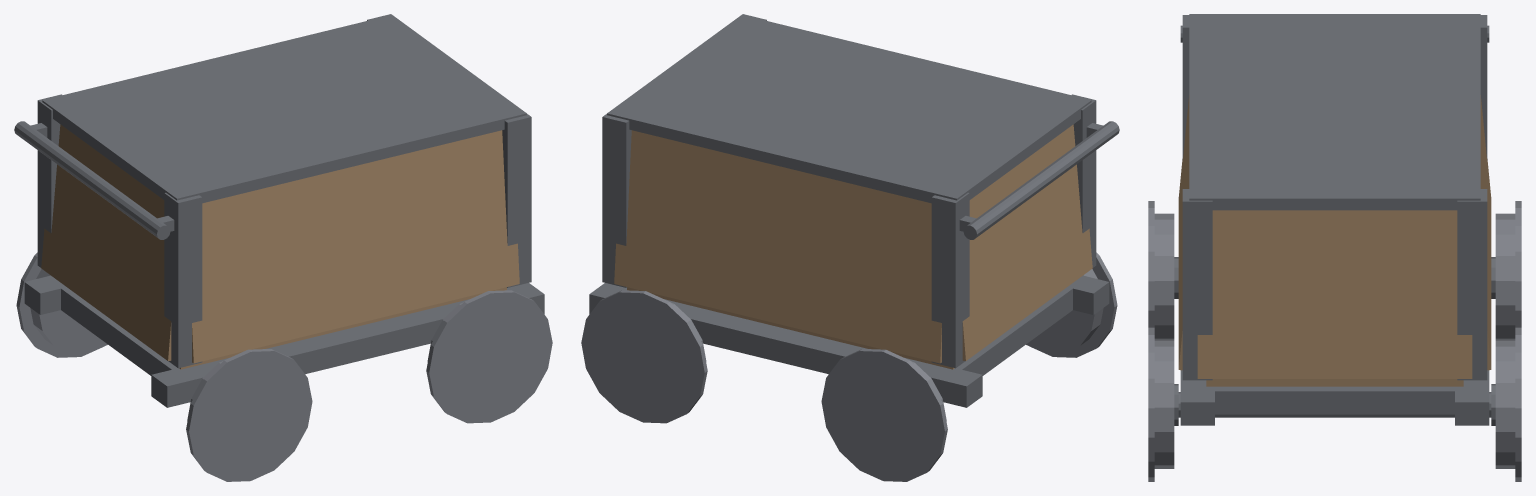
The model's file is mine_cart.glb.
3 renders of one model, left to right at view 1: azimuth 30°, elevation 25°; view 2: azimuth 150°, elevation 25°; view 3: azimuth 270°, elevation 25°, orthographic. The views are drawn at different scales.
Visible parts, largest first — view 1: Cube.014, Cube.006, Cube.008, Cylinder.009, Cylinder.002, Cube, Cube.010, Cube.012, Cube.002, Cylinder.014, Cube.011, Cylinder.004 (+3 smaller); view 2: Cube.014, Cube.007, Cube.008, Cylinder.012, Cylinder.005, Cube.001, Cube.011, Cube.013, Cube.002, Cylinder.014, Cube.010, Cylinder.001 (+3 smaller); view 3: Cube.014, Cube.009, Cube.004, Cube.012, Cube.013, Cylinder.008, Cylinder.011, Cylinder.001, Cylinder.004, Cube.005, Cube.001, Cube (+9 smaller).
Part boxes in pixels (bbox=[...]): Cube.014: bbox=[42, 15, 526, 203]; Cube.006: bbox=[192, 130, 519, 363]; Cube.008: bbox=[41, 124, 171, 360]; Cylinder.009: bbox=[426, 290, 552, 423]; Cylinder.002: bbox=[186, 349, 312, 481]; Cube: bbox=[151, 283, 544, 407]; Cube.010: bbox=[164, 192, 202, 368]; Cube.012: bbox=[502, 114, 531, 287]; Cube.002: bbox=[53, 281, 206, 375]; Cylinder.014: bbox=[14, 121, 170, 239]; Cube.011: bbox=[37, 94, 62, 267]; Cylinder.004: bbox=[30, 269, 107, 353]; Cube.014: bbox=[607, 15, 1091, 203]; Cube.007: bbox=[614, 130, 941, 363]; Cube.008: bbox=[962, 124, 1092, 360]; Cylinder.012: bbox=[581, 290, 707, 423]; Cylinder.005: bbox=[821, 349, 947, 481]; Cube.001: bbox=[589, 283, 982, 407]; Cube.011: bbox=[931, 192, 969, 368]; Cube.013: bbox=[602, 114, 631, 287]; Cube.002: bbox=[927, 281, 1080, 375]; Cylinder.014: bbox=[963, 121, 1119, 239]; Cube.010: bbox=[1071, 94, 1096, 267]; Cylinder.001: bbox=[1026, 269, 1103, 353]; Cube.014: bbox=[1189, 14, 1480, 210]; Cube.009: bbox=[1197, 210, 1472, 378]; Cube.004: bbox=[1197, 380, 1472, 414]; Cube.012: bbox=[1182, 189, 1212, 380]; Cube.013: bbox=[1457, 189, 1487, 380]; Cylinder.008: bbox=[1154, 340, 1174, 468]; Cylinder.011: bbox=[1495, 340, 1515, 468]; Cylinder.001: bbox=[1154, 213, 1174, 340]; Cylinder.004: bbox=[1495, 213, 1515, 340]; Cube.005: bbox=[1206, 379, 1463, 386]; Cube.001: bbox=[1455, 370, 1489, 425]; Cube: bbox=[1180, 370, 1214, 425].
Bounding box in the file's own units: 1.13 × 0.785 × 0.871.
